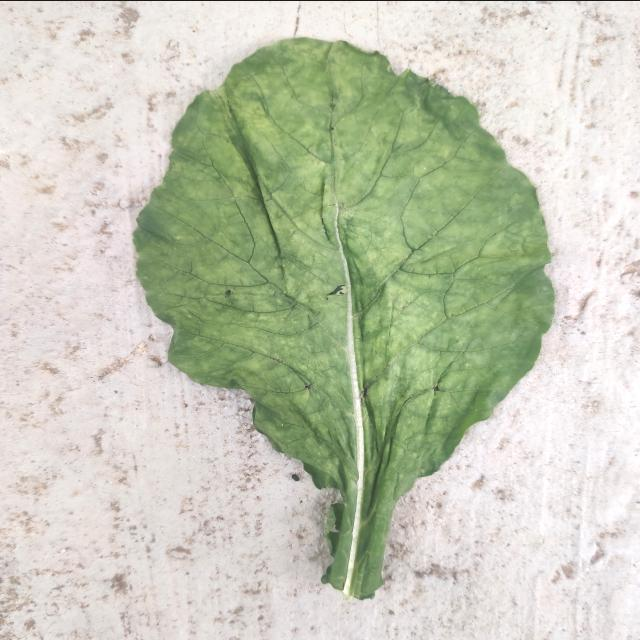leaf: (130, 35, 556, 600)
